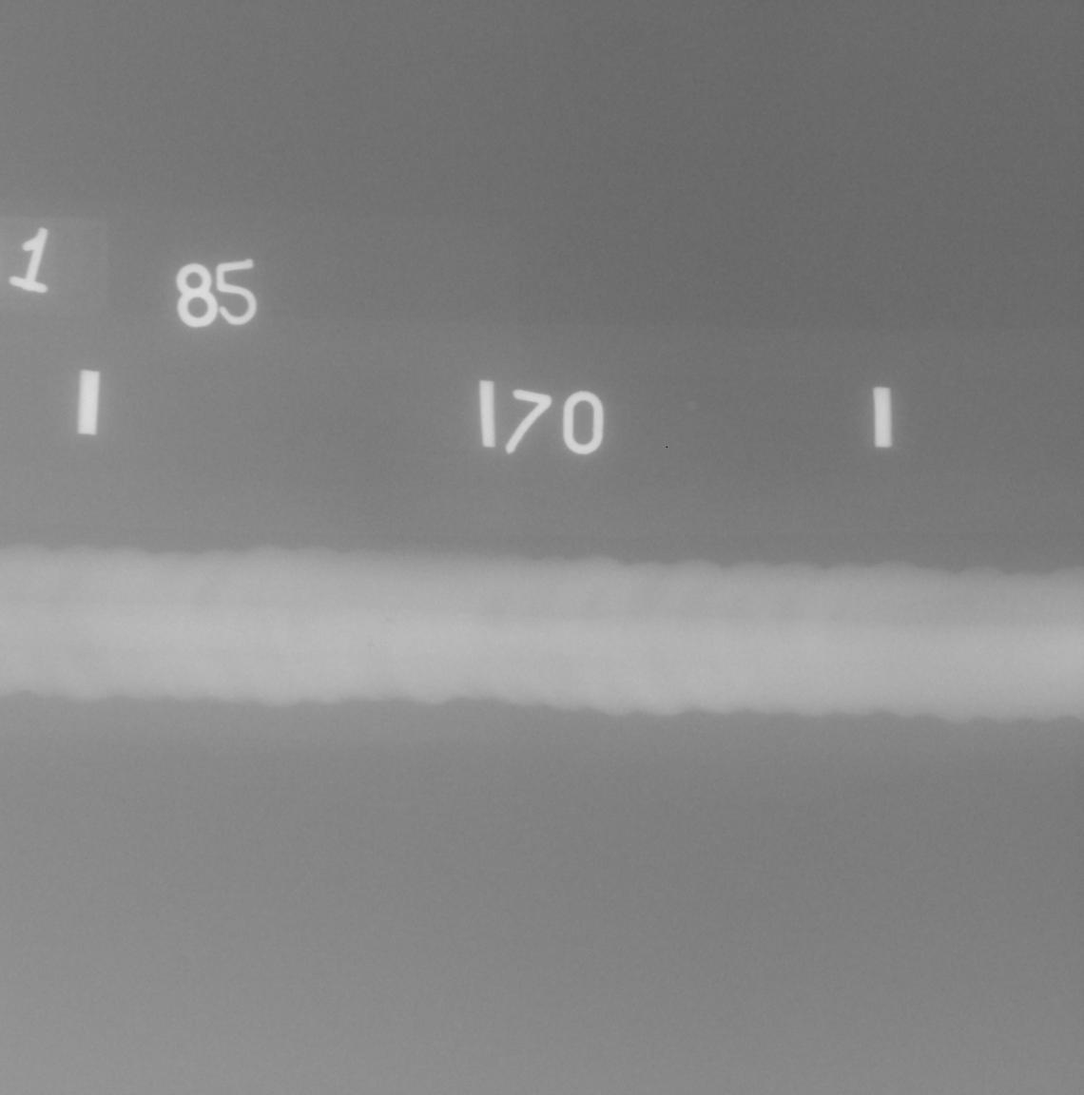Pore/Porosity: (383, 615, 393, 623), (367, 641, 376, 649)
